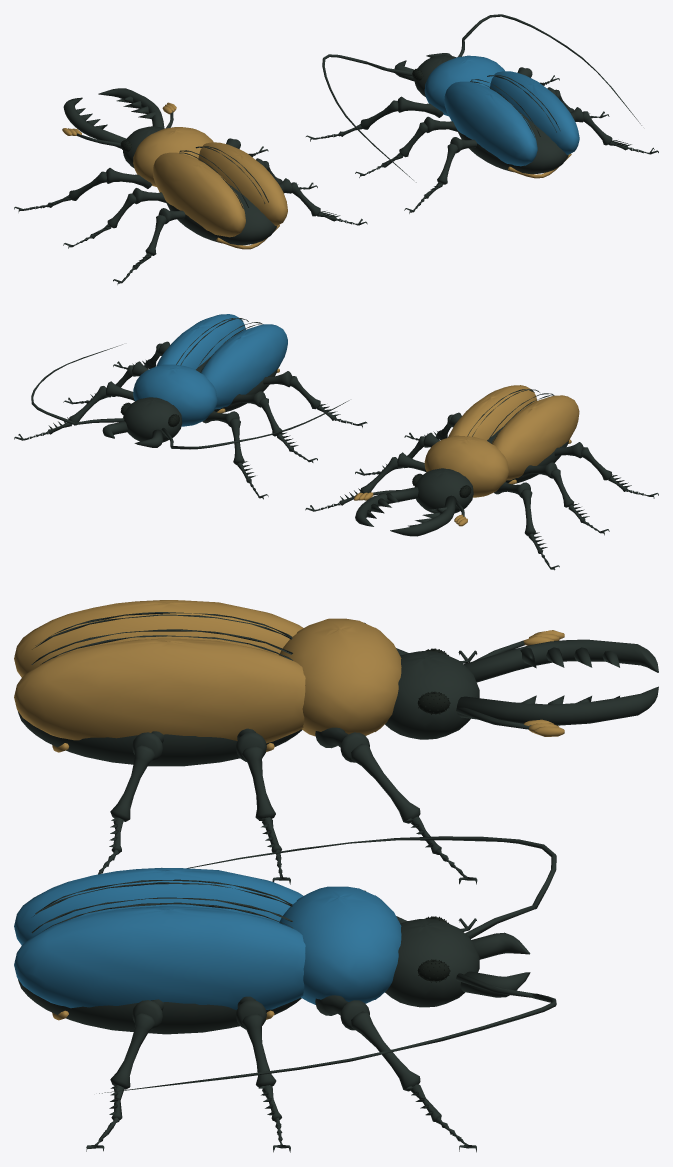
3 renders of one model, top to bottom at view 1: azimuth 30°, elevation 25°; view 2: azimuth 150°, elevation 25°; view 3: azimuth 270°, elevation 25°, orthographic. The views are drawn at different scales.
Parts seen in each view (by area): view 1: B03_SPEC_Chitin_export, B03_SPEC_Iridescent bronze_export, B03_SPEC_Iridescent blue_export; view 2: B03_SPEC_Chitin_export, B03_SPEC_Iridescent bronze_export, B03_SPEC_Iridescent blue_export, B03_SPEC_Eyes_export; view 3: B03_SPEC_Chitin_export, B03_SPEC_Iridescent bronze_export, B03_SPEC_Iridescent blue_export, B03_SPEC_Eyes_export.
Part boxes in pixels (x1,y1,x2,y2): B03_SPEC_Chitin_export: [14, 14, 658, 284]; B03_SPEC_Iridescent bronze_export: [62, 102, 571, 249]; B03_SPEC_Iridescent blue_export: [424, 55, 579, 166]; B03_SPEC_Chitin_export: [14, 318, 658, 570]; B03_SPEC_Iridescent bronze_export: [217, 368, 579, 526]; B03_SPEC_Iridescent blue_export: [133, 314, 287, 426]; B03_SPEC_Eyes_export: [120, 402, 471, 498]; B03_SPEC_Chitin_export: [18, 612, 658, 1152]; B03_SPEC_Iridescent bronze_export: [14, 600, 564, 1020]; B03_SPEC_Iridescent blue_export: [14, 867, 401, 1009]; B03_SPEC_Eyes_export: [417, 648, 450, 982].
Size of the model in its own units: 2.64 by 0.3705 by 1.45.
